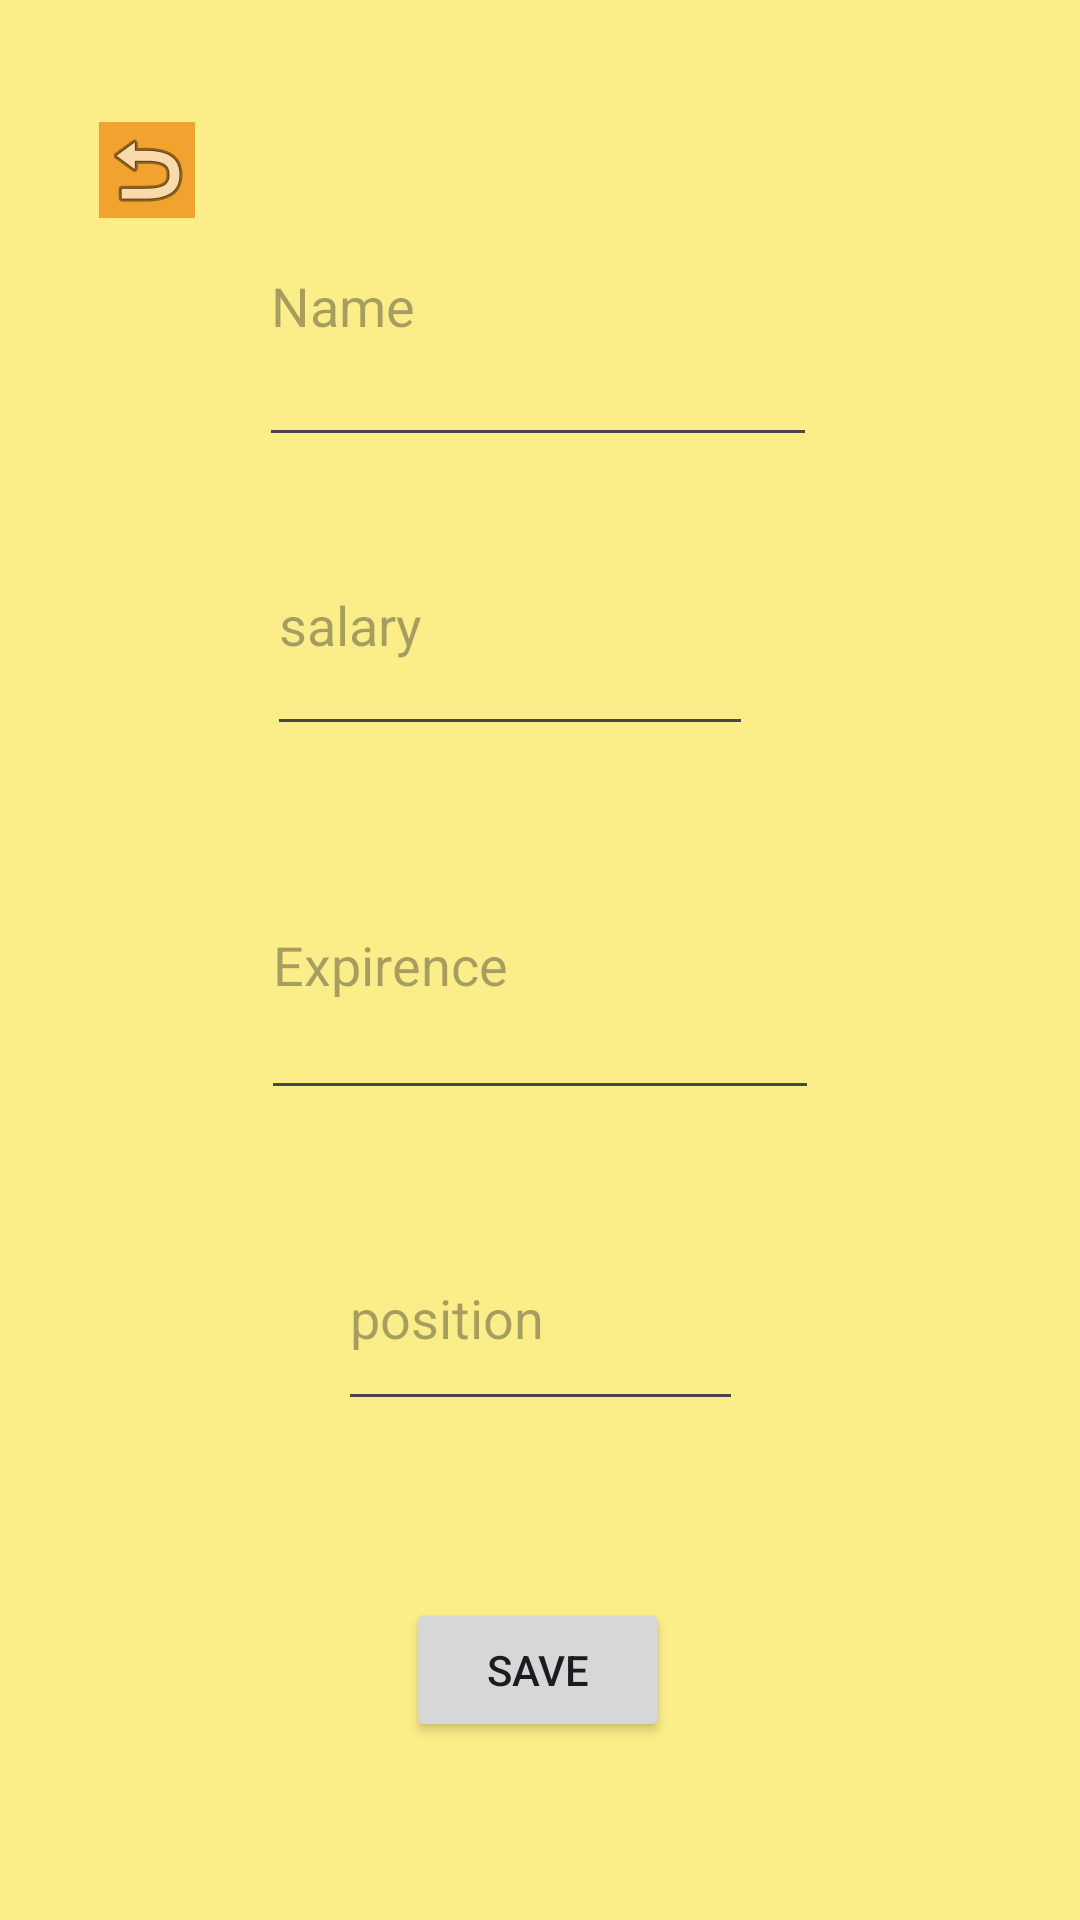

Named icons in this screenshot (1080px×1920px) and their bounding boxes, detection(x1, y1, x2, y2):
revert: detection(99, 122, 195, 218)
